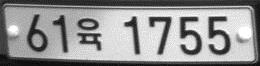1: (120, 14, 144, 56), (49, 12, 71, 54)
5: (206, 15, 231, 56), (178, 14, 202, 56)
6: (25, 13, 48, 53)
7: (147, 14, 174, 56)
육: (74, 15, 104, 51)
